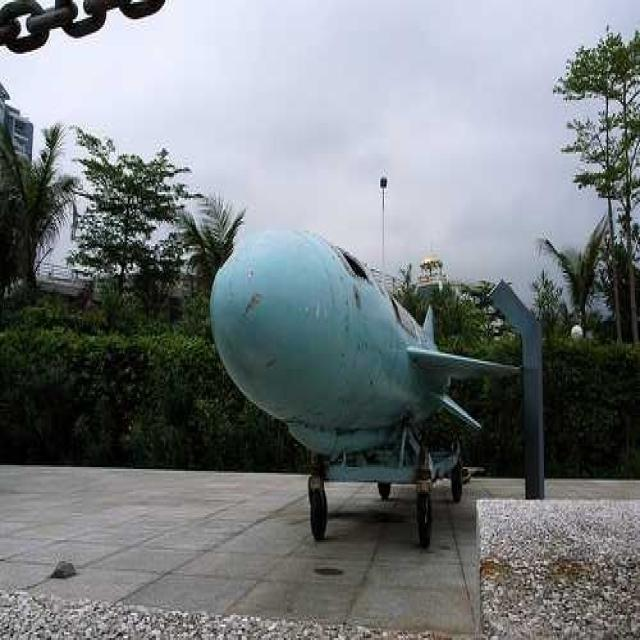missile: (209, 231, 506, 494)
